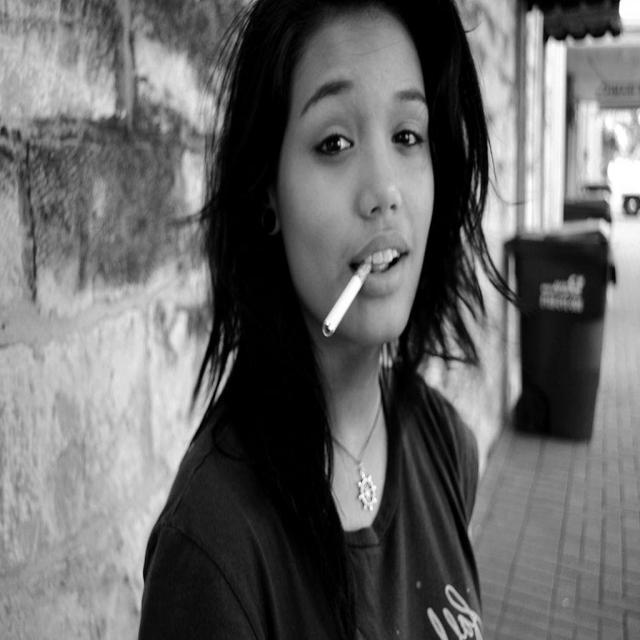cigarette: (302, 248, 388, 352)
